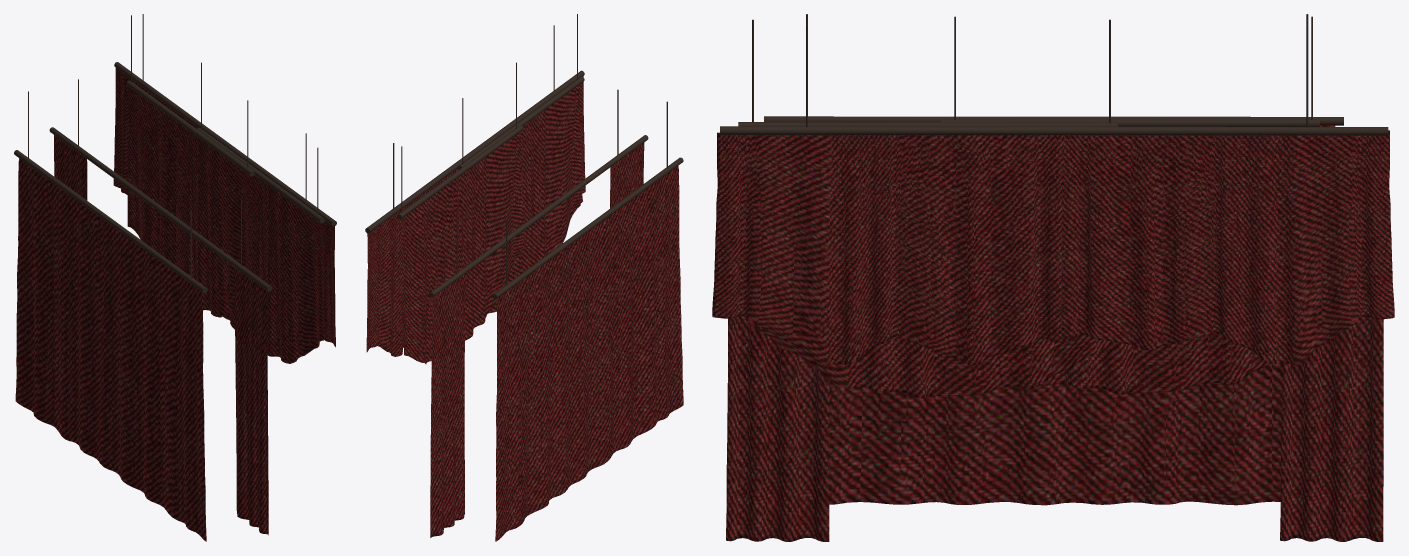
The model's file is cortinas escenario.fbx.
3 views of the same model, side by side, from view 1: azimuth 30°, elevation 25°; view 2: azimuth 150°, elevation 25°; view 3: azimuth 270°, elevation 25° (orthographic). The views are drawn at different scales.
Parts seen in each view (by area): view 1: Plane_005, Plane_010, cortinas_escenario, Plane_004, Plane_006, Plane_008, Cylinder.003, Cylinder.006, Cylinder, Plane_007, Cylinder.012, Cylinder.009; view 2: Plane_005, Plane_010, cortinas_escenario, Plane_007, Plane_008, Cylinder.003, Cylinder.006, Cylinder, Plane_004, Cylinder.012, Cylinder.009; view 3: Plane_006, Plane_008, Plane_005, Plane_007, Plane_004, cortinas_escenario, Plane_010, Cylinder.006, Cylinder, Cylinder.012, Cylinder.009.
Part boxes in pixels (x1=…): Plane_005: x1=15, y1=158, x2=206, y2=541; Plane_010: x1=127, y1=87, x2=250, y2=317; cortinas_escenario: x1=223, y1=175, x2=320, y2=363; Plane_004: x1=234, y1=267, x2=268, y2=535; Plane_006: x1=319, y1=220, x2=335, y2=347; Plane_008: x1=113, y1=67, x2=197, y2=194; Cylinder.003: x1=49, y1=127, x2=272, y2=291; Cylinder.006: x1=114, y1=62, x2=336, y2=226; Cylinder: x1=14, y1=150, x2=207, y2=293; Plane_007: x1=54, y1=129, x2=87, y2=200; Cylinder.012: x1=126, y1=80, x2=254, y2=176; Cylinder.009: x1=197, y1=127, x2=324, y2=223; Plane_005: x1=495, y1=166, x2=683, y2=541; Plane_010: x1=401, y1=131, x2=523, y2=364; cortinas_escenario: x1=488, y1=83, x2=583, y2=313; Plane_007: x1=430, y1=267, x2=466, y2=537; Plane_008: x1=366, y1=168, x2=458, y2=356; Cylinder.003: x1=429, y1=135, x2=648, y2=297; Cylinder.006: x1=365, y1=70, x2=584, y2=233; Cylinder: x1=492, y1=157, x2=683, y2=299; Plane_004: x1=610, y1=138, x2=644, y2=208; Cylinder.012: x1=397, y1=125, x2=523, y2=219; Cylinder.009: x1=457, y1=76, x2=584, y2=169; Plane_006: x1=712, y1=132, x2=1072, y2=365; Plane_008: x1=1055, y1=130, x2=1394, y2=365; Plane_005: x1=829, y1=125, x2=1335, y2=505; Plane_007: x1=1280, y1=316, x2=1383, y2=541; Plane_004: x1=726, y1=316, x2=829, y2=541; cortinas_escenario: x1=745, y1=317, x2=1113, y2=398; Plane_010: x1=1042, y1=334, x2=1271, y2=394; Cylinder.006: x1=720, y1=126, x2=1388, y2=135; Cylinder: x1=764, y1=116, x2=1343, y2=125; Cylinder.012: x1=940, y1=119, x2=1319, y2=126; Cylinder.009: x1=738, y1=122, x2=1117, y2=126.
Bounding box in the file's own units: 218 × 637 × 696.
